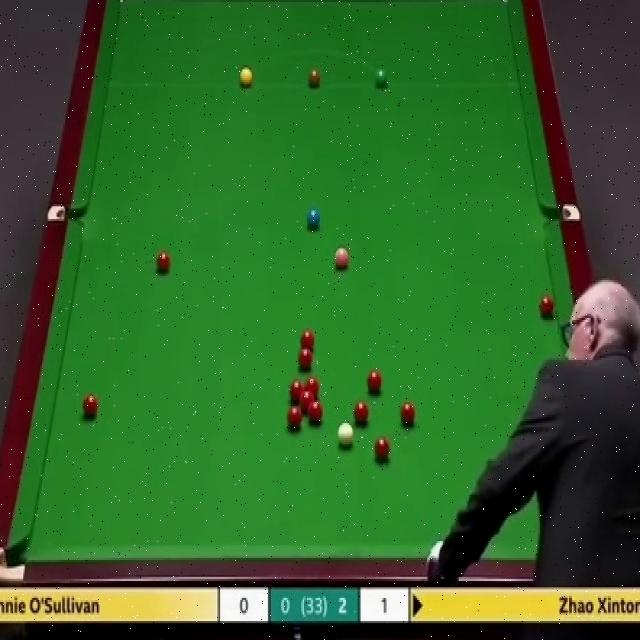blue-ball: (305, 207, 321, 231)
brown-ball: (308, 67, 321, 88)
green-ball: (373, 67, 388, 88)
pink-ball: (332, 244, 352, 267)
red-ball: (83, 393, 101, 418), (155, 249, 174, 272), (366, 369, 383, 394), (374, 438, 391, 463), (400, 402, 416, 428), (352, 402, 369, 426), (539, 293, 555, 317), (307, 402, 323, 425), (298, 348, 314, 371), (288, 383, 305, 404), (304, 376, 320, 397), (287, 407, 302, 429), (299, 333, 315, 353), (300, 391, 314, 410)
white-ball: (336, 424, 354, 450)
yellow-ball: (240, 68, 253, 88)
